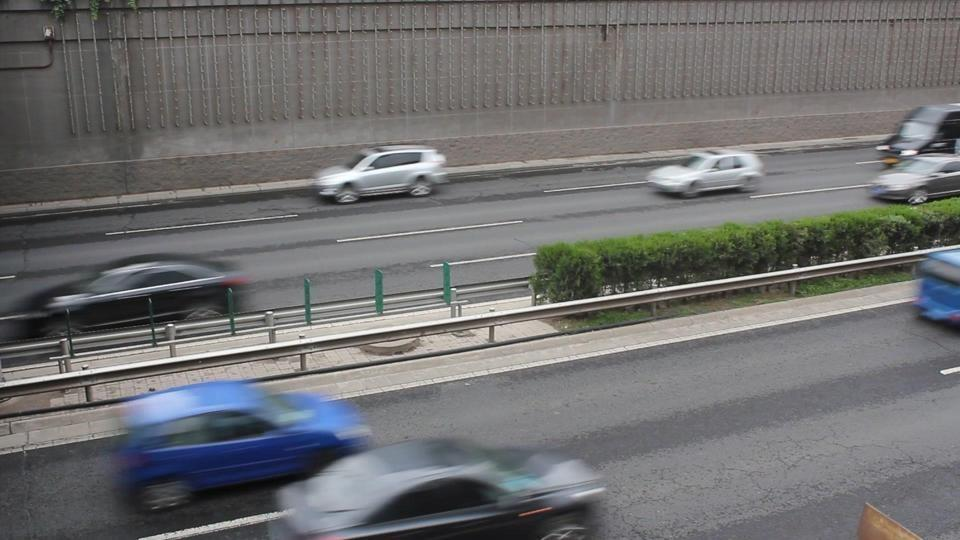car: (112, 380, 372, 515), (272, 436, 609, 540), (17, 256, 254, 329), (311, 146, 449, 205), (645, 150, 766, 199), (876, 103, 960, 167), (867, 152, 960, 205), (912, 246, 960, 329)
